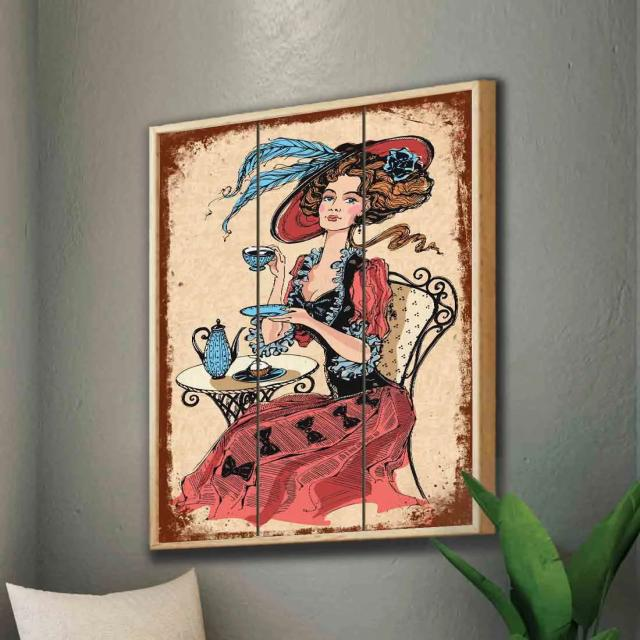painting: (150, 78, 480, 553)
